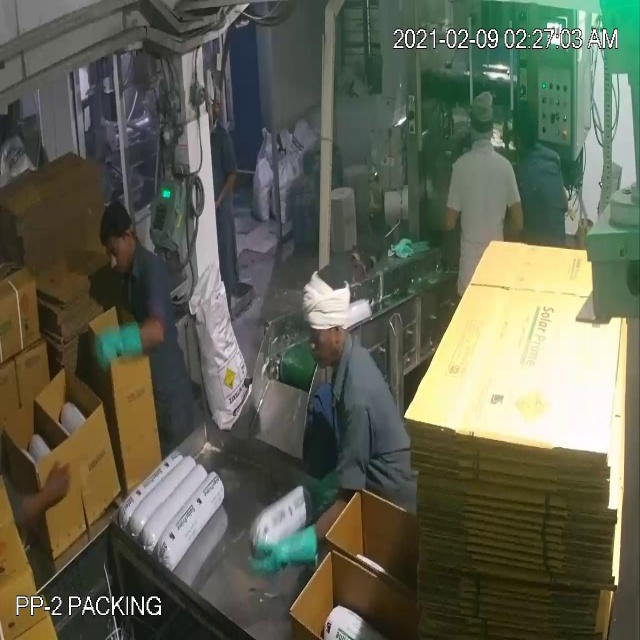Guantes: (247, 515, 322, 593), (89, 312, 147, 380)
Sin_guantes: (21, 460, 74, 530), (208, 169, 241, 211)
